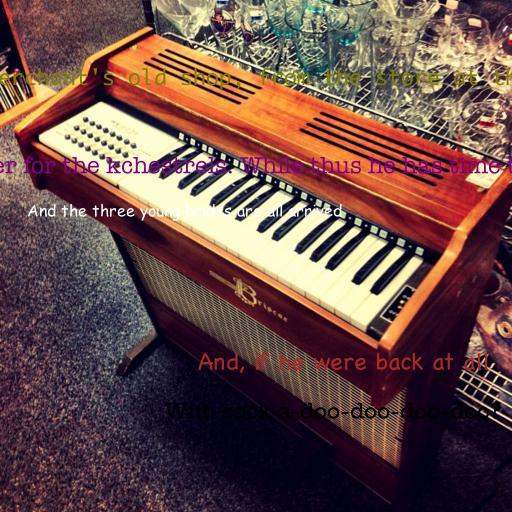American Typewriter: (0, 156, 512, 174)
Chalkboard: (198, 351, 490, 373)
Comic Sans MS: (26, 203, 342, 221)
Monaco: (0, 67, 512, 90)
Rockwell: (163, 402, 501, 419)
